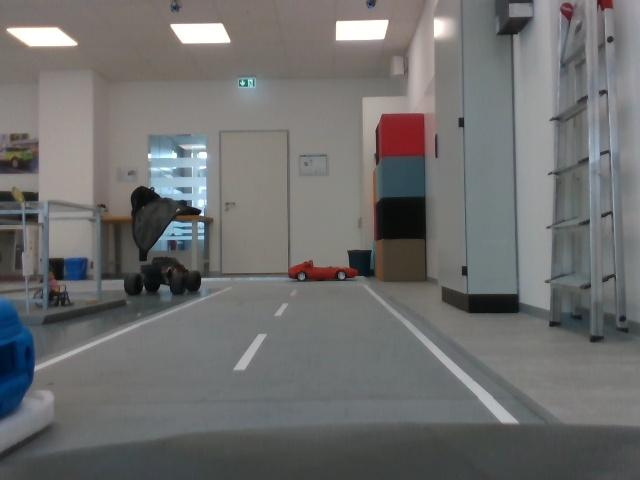car: (121, 256, 205, 303), (289, 255, 360, 288)
person: (31, 271, 79, 311)
